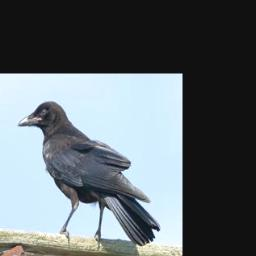Crow: (17, 101, 161, 246)
